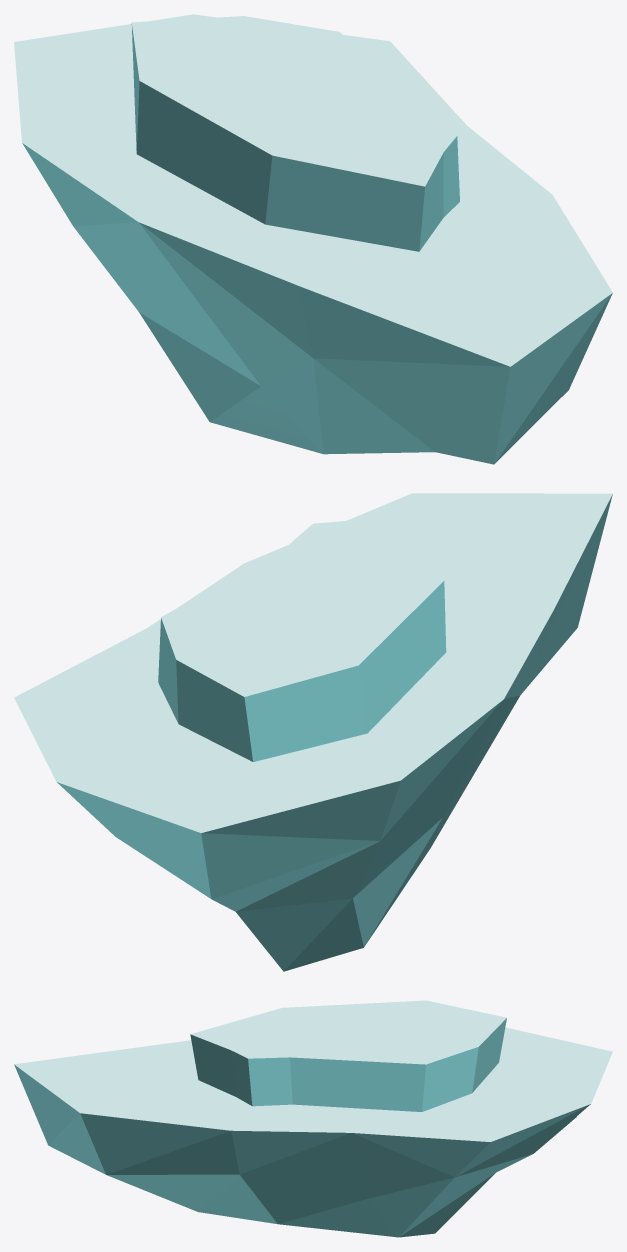
The model's file is nature_floe-deep.fbx.
3 renders of one model, top to bottom at view 1: azimuth 30°, elevation 25°; view 2: azimuth 150°, elevation 25°; view 3: azimuth 270°, elevation 25°, orthographic. The views are drawn at different scales.
Parts seen in each view (by area): view 1: nature_floe_deep; view 2: nature_floe_deep; view 3: nature_floe_deep.
Part boxes in pixels (x1,y1,x2,y2): nature_floe_deep: (14, 14, 612, 464); nature_floe_deep: (14, 493, 612, 971); nature_floe_deep: (14, 1000, 612, 1237).
Bounding box in the file's own units: 96.06 × 77.77 × 200.
